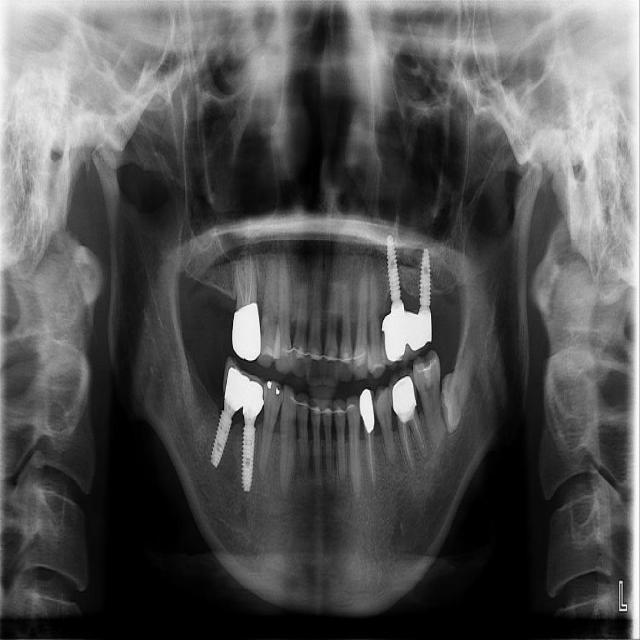52: (377, 309, 413, 372), (220, 356, 253, 413), (231, 303, 262, 363), (385, 366, 420, 415), (239, 373, 270, 423), (406, 305, 433, 361), (257, 317, 284, 371), (262, 378, 285, 419), (357, 386, 376, 429)
73: (391, 406, 435, 476), (230, 247, 260, 306), (363, 424, 379, 493), (590, 558, 592, 574)
Biomet 3i Implant: (431, 343, 481, 435)
Blue Sky Bio Implant: (410, 349, 450, 458)
